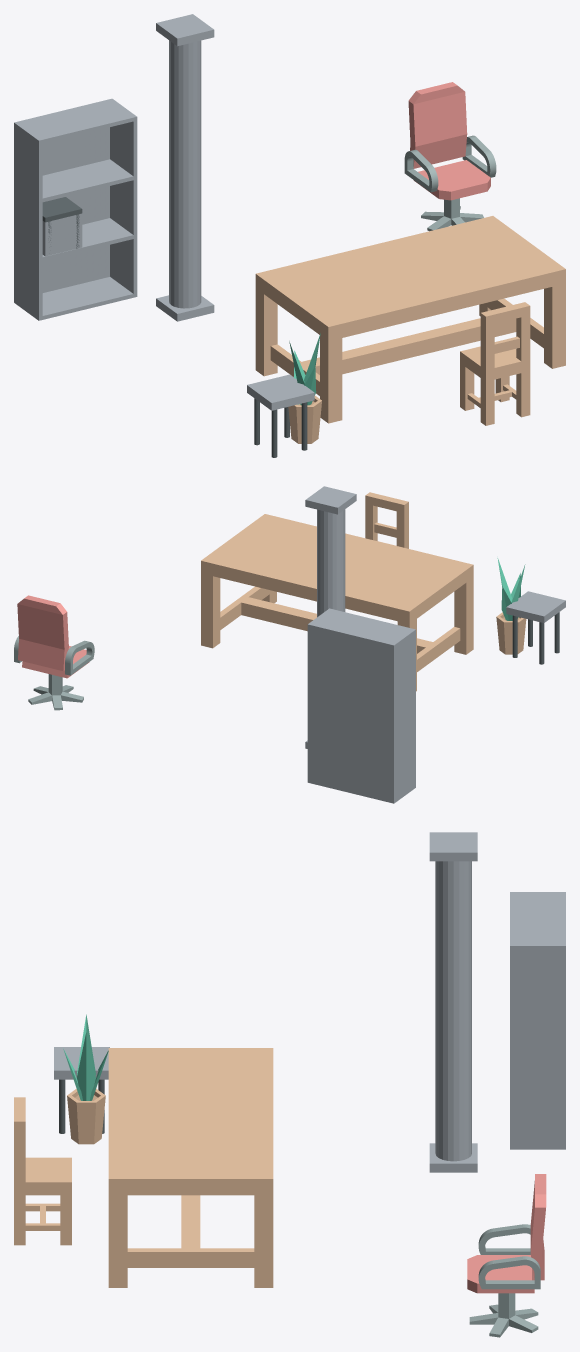
3 renders of one model, top to bottom at view 1: azimuth 30°, elevation 25°; view 2: azimuth 150°, elevation 25°; view 3: azimuth 270°, elevation 25°, orthographic. The views are drawn at different scales.
Visible parts, largest first — view 1: table_green__table(Clone), column_cyan__column_cyan shaft, deskchair_black__chair, chair_cyan__chair(Clone), shelf_orange__shelf_orange back, shelf_orange__shelf_orange side_l, shelf_orange__shelf_orange side_r, shelf_orange__shelf_orange board3, shelf_orange__shelf_orange board2, shelf_orange__shelf_orange board0, stool_purple__stool_purple seat, box_yellow__box_yellow shell (+7 smaller); view 2: table_green__table(Clone), shelf_orange__shelf_orange back, deskchair_black__chair, shelf_orange__shelf_orange side_l, column_cyan__column_cyan shaft, chair_cyan__chair(Clone), shelf_orange__shelf_orange board3, stool_purple__stool_purple seat, column_cyan__column_cyan capital, deskchair_black__chairDesk(Clone), plant_pink__pottedPlant(Clone), shelf_orange__shelf_orange side_r (+1 smaller); view 3: table_green__table(Clone), shelf_orange__shelf_orange side_r, column_cyan__column_cyan shaft, deskchair_black__chair, chair_cyan__chair(Clone), shelf_orange__shelf_orange board3, plant_pink__pottedPlant(Clone), deskchair_black__chairDesk(Clone), column_cyan__column_cyan capital, plant_pink__plant, stool_purple__stool_purple seat, column_cyan__column_cyan plinth.
Boxes of the visible parts, box(x1,y1,x2,y2) form: table_green__table(Clone): box(255, 216, 565, 423); column_cyan__column_cyan shaft: box(169, 40, 201, 308); deskchair_black__chair: box(404, 82, 496, 200); chair_cyan__chair(Clone): box(460, 302, 530, 425); shelf_orange__shelf_orange back: box(18, 99, 109, 292); shelf_orange__shelf_orange side_l: box(14, 121, 42, 320); shelf_orange__shelf_orange side_r: box(109, 98, 137, 297); shelf_orange__shelf_orange board3: box(19, 100, 133, 143); shelf_orange__shelf_orange board2: box(42, 159, 133, 202); shelf_orange__shelf_orange board0: box(42, 277, 133, 319); stool_purple__stool_purple seat: box(247, 374, 314, 410); box_yellow__box_yellow shell: box(42, 213, 82, 256); table_green__table(Clone): box(201, 514, 473, 691); shelf_orange__shelf_orange back: box(311, 624, 391, 802); deskchair_black__chair: box(14, 595, 94, 678); shelf_orange__shelf_orange side_l: box(391, 629, 415, 803); column_cyan__column_cyan shaft: box(317, 509, 345, 617); chair_cyan__chair(Clone): box(365, 492, 408, 548); shelf_orange__shelf_orange board3: box(312, 609, 412, 643); stool_purple__stool_purple seat: box(506, 591, 565, 622); column_cyan__column_cyan capital: box(305, 486, 356, 514); deskchair_black__chairDesk(Clone): box(28, 674, 83, 710); plant_pink__pottedPlant(Clone): box(496, 612, 526, 654); shelf_orange__shelf_orange side_r: box(307, 608, 332, 783); table_green__table(Clone): box(108, 1048, 273, 1287); shelf_orange__shelf_orange side_r: box(510, 944, 565, 1149); column_cyan__column_cyan shaft: box(435, 861, 471, 1161); deskchair_black__chair: box(467, 1174, 546, 1293); chair_cyan__chair(Clone): box(14, 1097, 71, 1245); shelf_orange__shelf_orange board3: box(510, 894, 562, 943); plant_pink__pottedPlant(Clone): box(67, 1088, 105, 1144); deskchair_black__chairDesk(Clone): box(469, 1293, 538, 1337); column_cyan__column_cyan capital: box(429, 832, 477, 861); plant_pink__plant: box(63, 1014, 108, 1100); stool_purple__stool_purple seat: box(54, 1047, 109, 1079); column_cyan__column_cyan plinth: box(429, 1143, 477, 1172).
Size of the model in its own units: 3.61 by 2.2 by 3.44.
